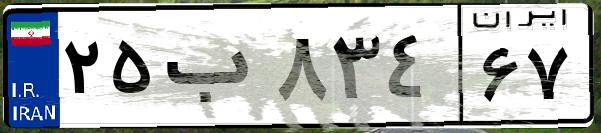2: (57, 26, 110, 100)
3: (330, 28, 385, 110)
4: (385, 28, 445, 110)
5: (110, 28, 158, 98)
6: (475, 38, 525, 113)
7: (525, 38, 570, 115)
8: (270, 28, 330, 110)
ب: (158, 20, 270, 120)
